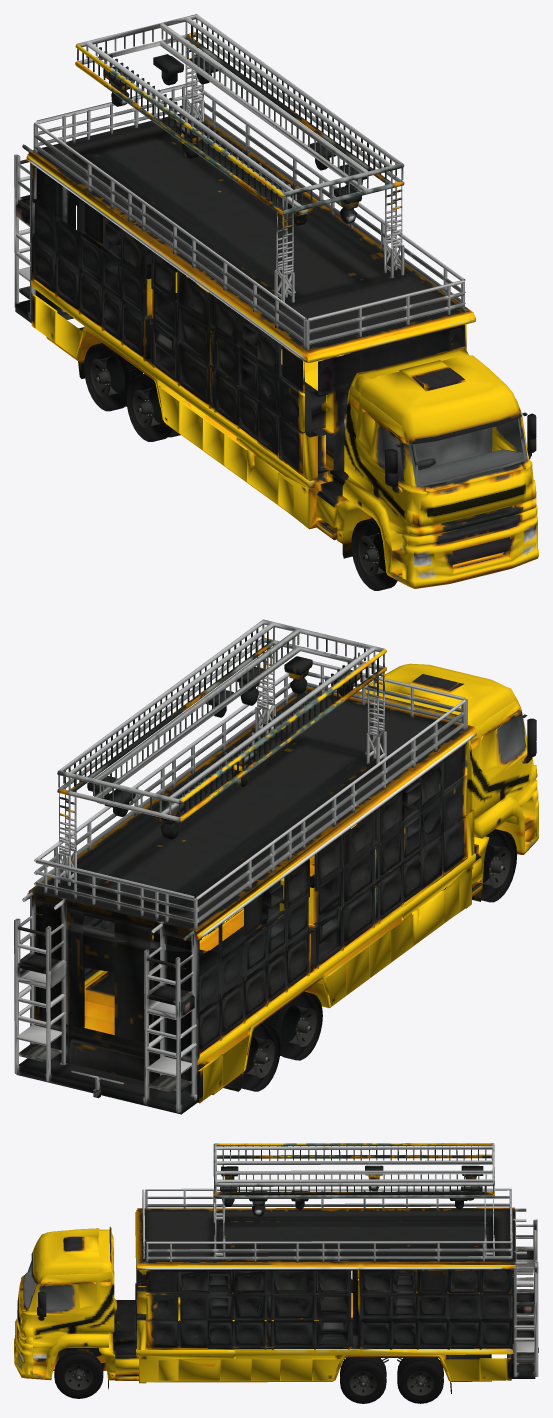
Rendered from som-caminhao-2.glb.
The picture shows the model from 3 angles, top to bottom: view 1: azimuth 30°, elevation 25°; view 2: azimuth 150°, elevation 25°; view 3: azimuth 270°, elevation 25°; orthographic projection. The views are drawn at different scales.
Parts seen in each view (by area): view 1: Som_caminhao, Tyre_Rear2_L, Tyre_Rear_L, Tyre_Front_L; view 2: Som_caminhao, Tyre_Rear_L, Tyre_Front_L, Tyre_Rear2_L; view 3: Som_caminhao, Tyre_Front_R, Tyre_Rear_R, Tyre_Rear2_R.
Part boxes in pixels (x1,y1,x2,y2): Som_caminhao: (14, 14, 538, 588); Tyre_Rear2_L: (84, 343, 143, 411); Tyre_Rear_L: (126, 373, 180, 441); Tyre_Front_L: (351, 518, 397, 590); Som_caminhao: (14, 619, 538, 1114); Tyre_Rear_L: (263, 991, 322, 1060); Tyre_Front_L: (481, 829, 516, 902); Tyre_Rear2_L: (241, 1022, 280, 1091); Som_caminhao: (14, 1143, 538, 1393); Tyre_Front_R: (54, 1350, 103, 1398); Tyre_Rear_R: (340, 1357, 386, 1403); Tyre_Rear2_R: (397, 1357, 443, 1403).
Size of the model in its own units: 2.64 by 4.66 by 10.2.
1 material, 1 textured.
